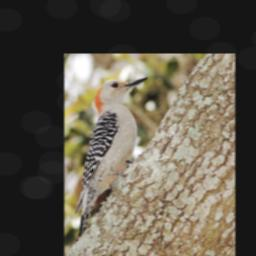Woodpecker: (68, 69, 150, 247)
